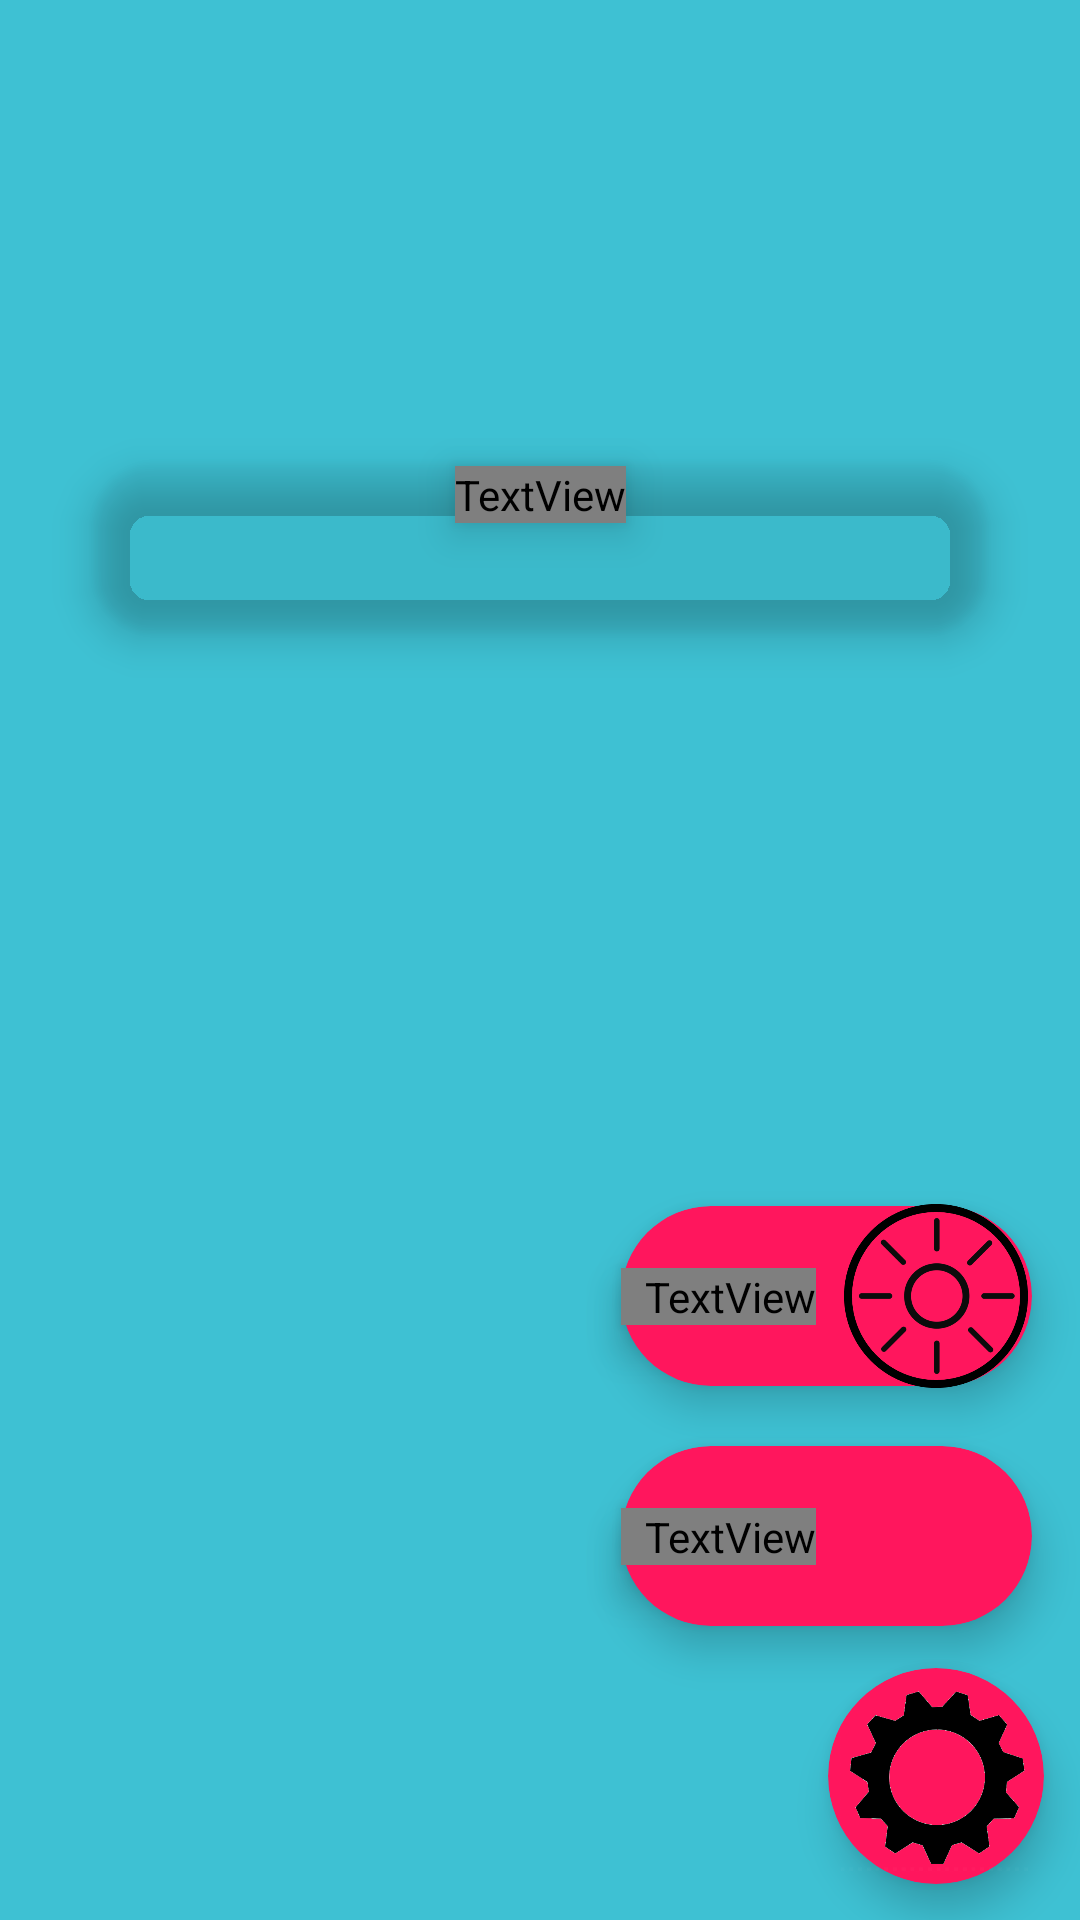

Point at icon controls on the screen. Image size 1080*1920, points as (x,y).
darkmodebutton: (936,1296)
settings: (936,1776)
